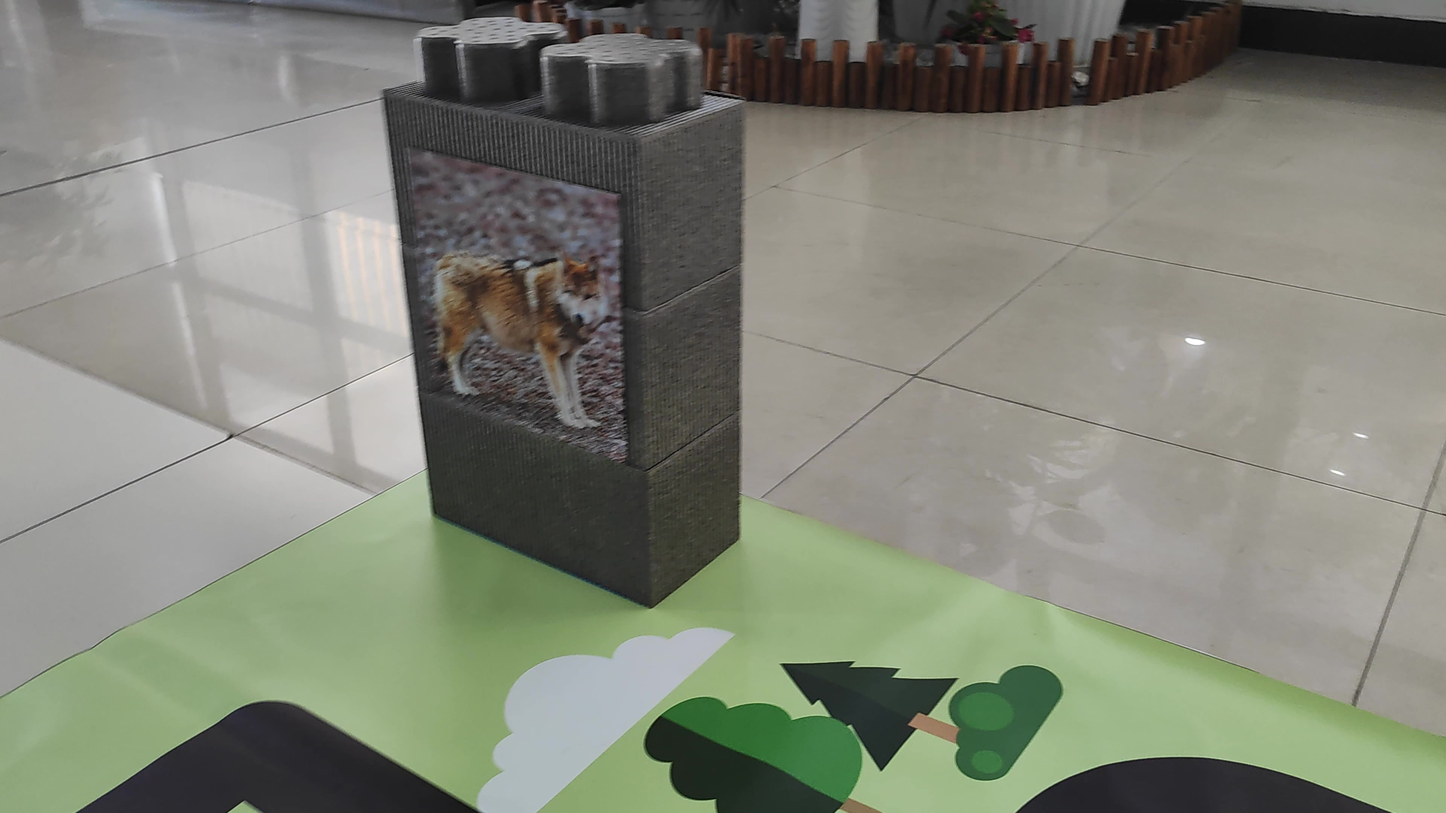wolf: (416, 159, 630, 449)
